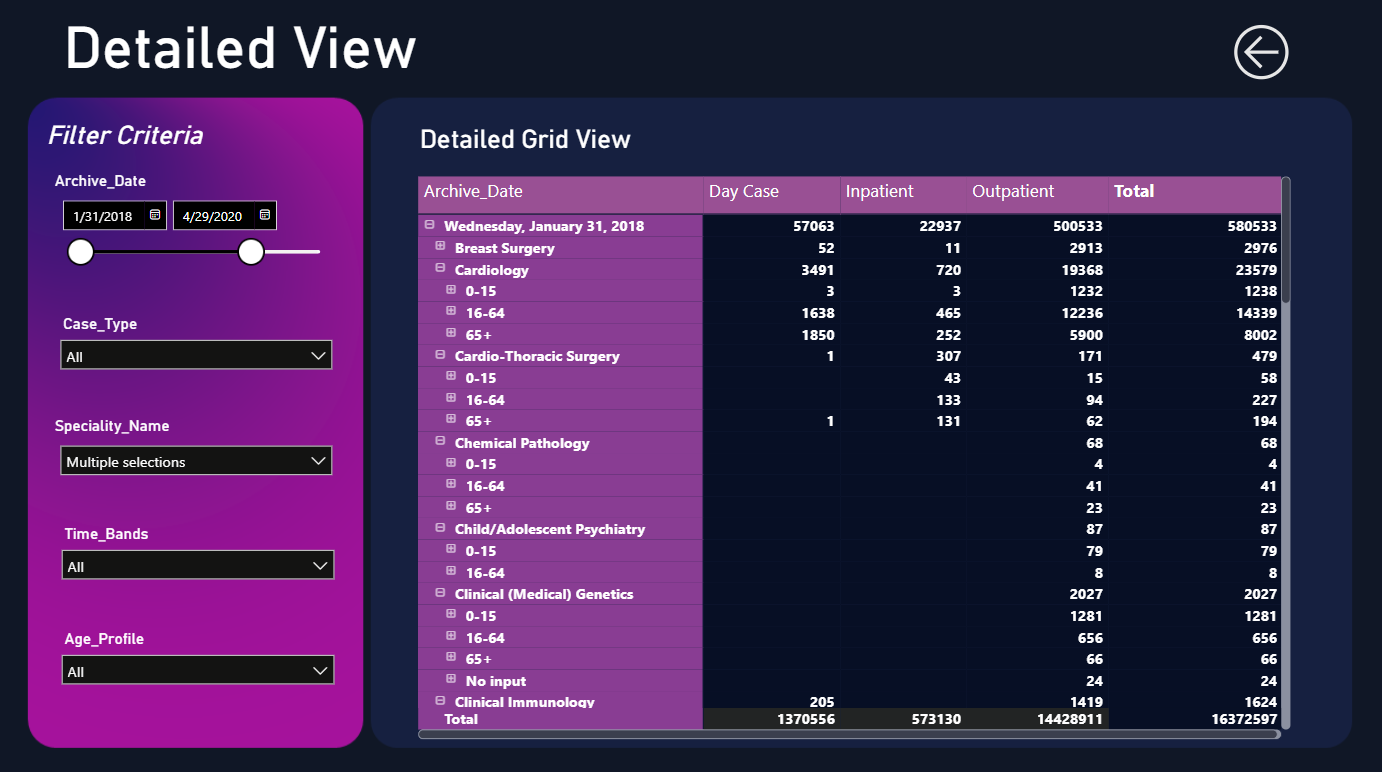

This screenshot's page, from the dashboard's own definition file:
{"tool":"powerbi","page":{"name":"Detailed","canvas":[1280,720],"ordinal":1},"visuals":[{"type":"slicer","title":"Archive_Date","fields":{"Values":["Patient_Data.Archive_Date"]},"box":[47.8,158.2,271.6,107.5],"z":0},{"type":"slicer","fields":{"Values":["Patient_Data.Case_Type"]},"box":[47.8,285.1,271.6,64.2],"z":1000},{"type":"pivotTable","fields":{"Rows":["Patient_Data.Archive_Date","Patient_Data.Speciality_Name","Patient_Data.Age_Profile","Patient_Data.Time_Bands"],"Columns":["Patient_Data.Case_Type"],"Values":["Sum(Patient_Data.Total)"]},"box":[383.6,158.2,816.4,529.9],"z":2000},{"type":"actionButton","box":[1136,16,64,64],"z":3000},{"type":"slicer","fields":{"Values":["Patient_Data.Time_Bands"]},"box":[48,480,272,64],"z":4000},{"type":"slicer","fields":{"Values":["Patient_Data.Age_Profile"]},"box":[48,576,272,64],"z":5000},{"type":"slicer","title":"Speciality_Name","fields":{"Values":["Patient_Data.Speciality_Name"]},"box":[47.8,385.1,271.6,79.1],"z":6000},{"type":"card","fields":{"Values":["Methods.Measure 2"]},"box":[32,16,384,64],"z":7000},{"type":"card","fields":{"Values":["Methods.Measure 9"]},"box":[277.6,107.5,420.9,40.3],"z":8000},{"type":"card","fields":{"Values":["Methods.Measure 10"]},"box":[0,107.5,234.3,32.8],"z":9000}]}

Visuals, with their boxes in screenshot pixels (x1, y1, x2, y2), scaled from the page's 1280x720 canvas onto the 1382x772 screenshot:
"Archive_Date" slicer: locate(52, 170, 345, 285)
slicer - Patient_Data.Case_Type: locate(52, 306, 345, 375)
pivotTable - Patient_Data.Archive_Date x Patient_Data.Speciality_Name: locate(414, 170, 1296, 738)
actionButton: locate(1227, 17, 1296, 86)
slicer - Patient_Data.Time_Bands: locate(52, 515, 346, 583)
slicer - Patient_Data.Age_Profile: locate(52, 618, 346, 686)
"Speciality_Name" slicer: locate(52, 413, 345, 498)
card - Methods.Measure 2: locate(35, 17, 449, 86)
card - Methods.Measure 9: locate(300, 115, 754, 158)
card - Methods.Measure 10: locate(0, 115, 253, 150)
